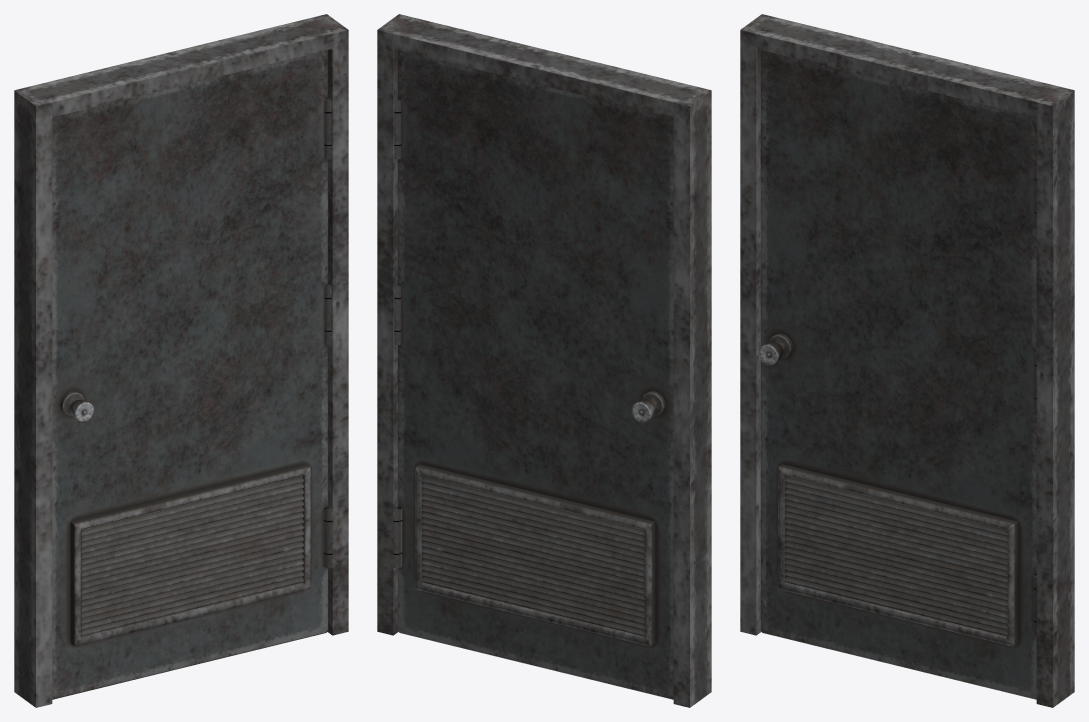
The model's file is Steel_Door_3_A.glb.
3 renders of one model, left to right at view 1: azimuth 30°, elevation 25°; view 2: azimuth 150°, elevation 25°; view 3: azimuth 330°, elevation 25°, orthographic.
Parts seen in each view (by area): view 1: Door, Door_Frame; view 2: Door, Door_Frame; view 3: Door, Door_Frame.
Boxes of the visible parts, x1=… form: Door: x1=52, y1=50, x2=332, y2=699; Door_Frame: x1=14, y1=14, x2=348, y2=707; Door: x1=393, y1=50, x2=673, y2=699; Door_Frame: x1=377, y1=14, x2=711, y2=707; Door: x1=759, y1=50, x2=1036, y2=699; Door_Frame: x1=740, y1=14, x2=1074, y2=707.
Bounding box in the file's own units: 1.12 × 2.05 × 0.2657.
Materials: 1 (1 with a texture image).
